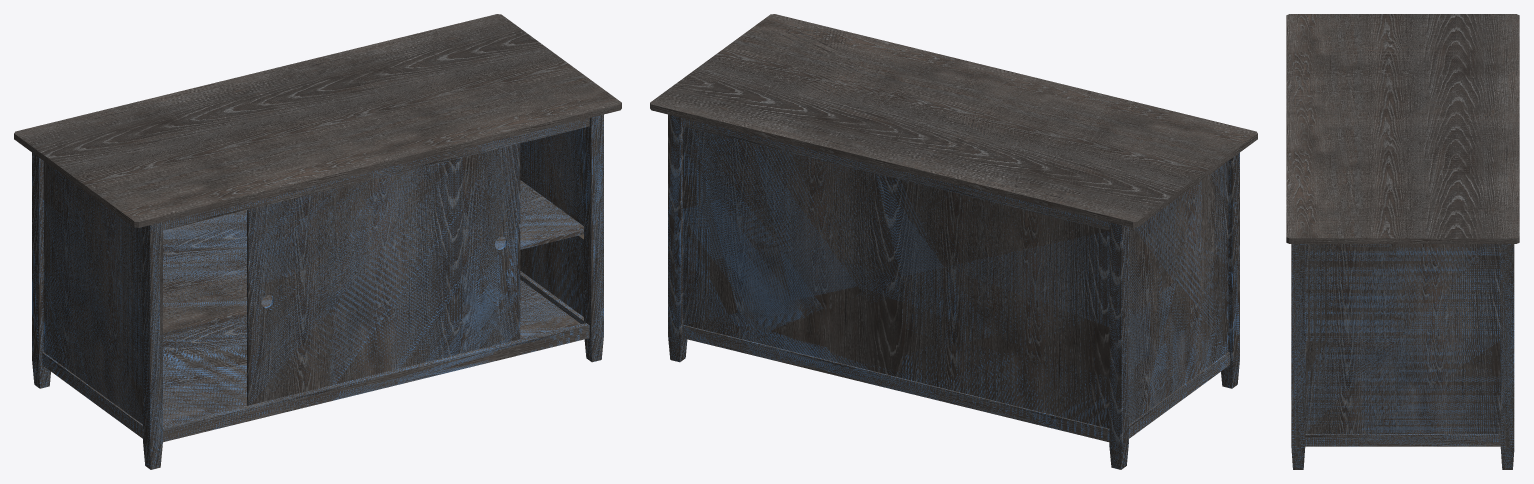
File: cabinete.dae
The picture shows the model from 3 angles, left to right: view 1: azimuth 30°, elevation 25°; view 2: azimuth 150°, elevation 25°; view 3: azimuth 270°, elevation 25°; orthographic projection. The views are drawn at different scales.
Visible parts, largest first — view 1: OuterShell (×2), Group_8 (×2); view 2: OuterShell (×2); view 3: OuterShell (×2).
Boxes of the visible parts, x1=… form: OuterShell (×2): x1=14, y1=14, x2=621, y2=469; Group_8 (×2): x1=247, y1=143, x2=520, y2=405; OuterShell (×2): x1=650, y1=14, x2=1257, y2=469; OuterShell (×2): x1=1286, y1=14, x2=1519, y2=469.
Size of the model in its own units: 67.85 by 29.8 by 33.83.
